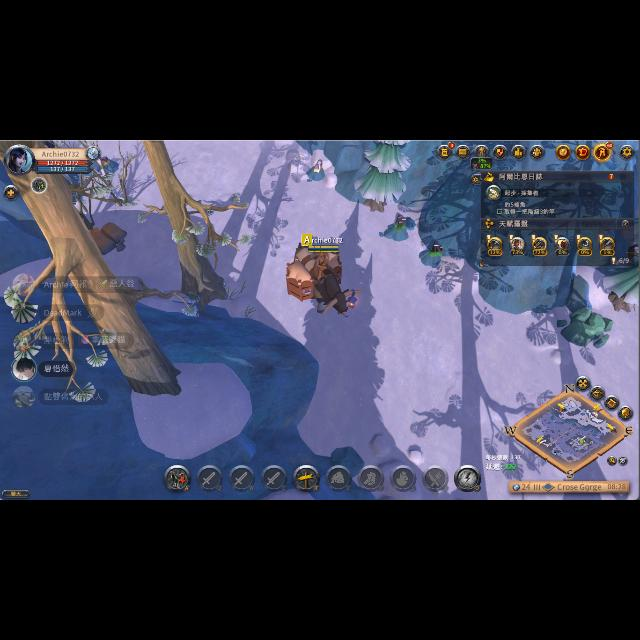mine_ii: (311, 156, 327, 180)
mine_iii: (426, 240, 452, 264), (390, 216, 412, 238)
